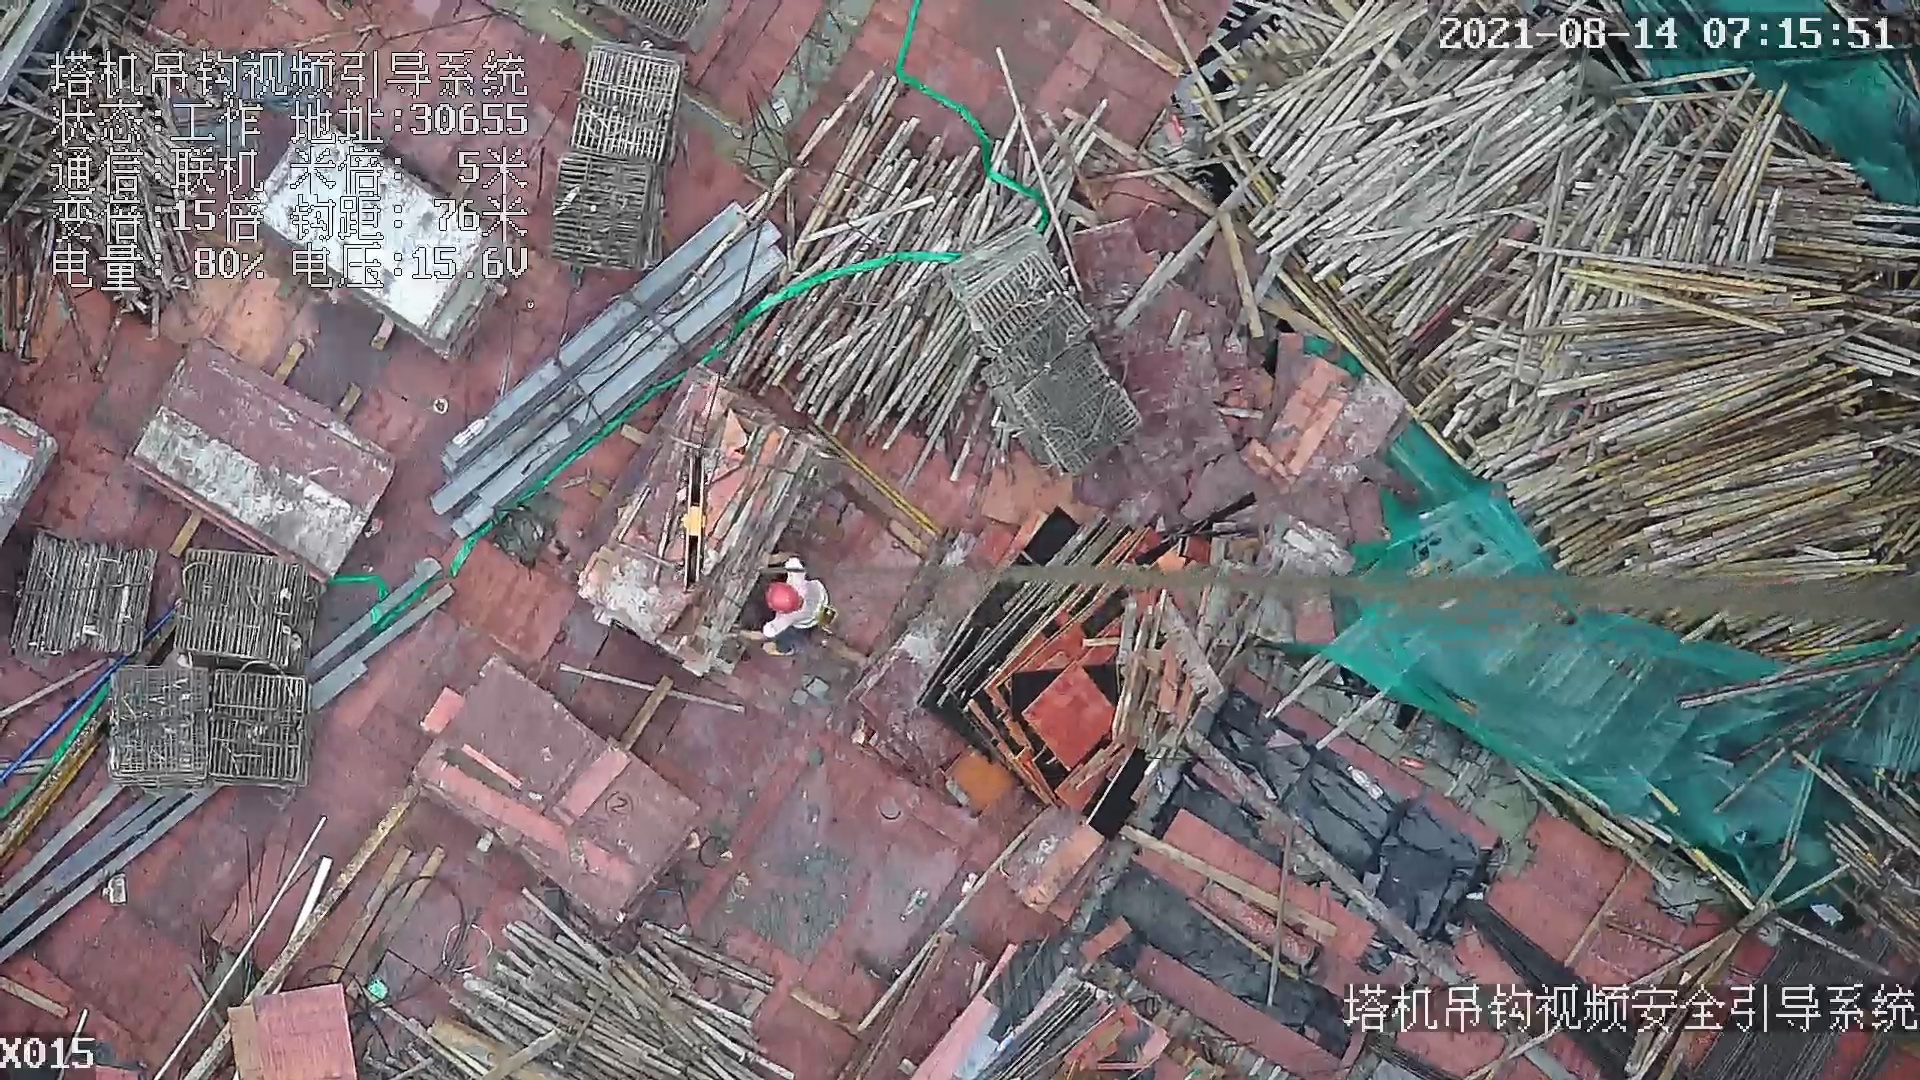helmet: (764, 579, 804, 616)
hook: (676, 445, 710, 589)
person: (736, 547, 835, 662)
